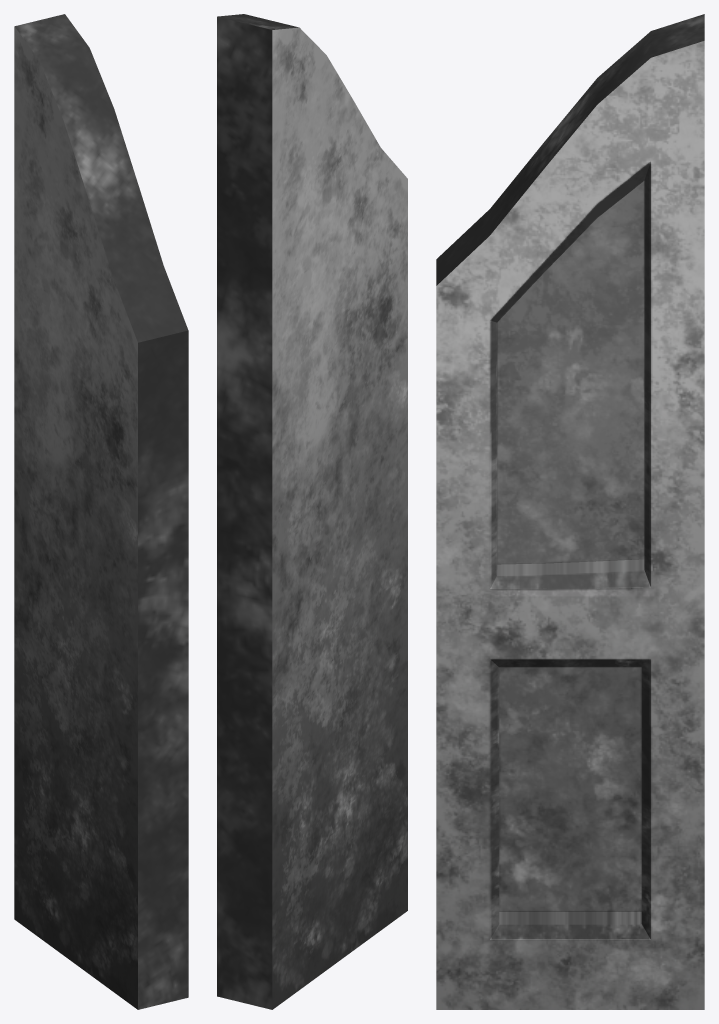
The model's file is DoorA.fbx.
The picture shows the model from 3 angles, left to right: view 1: azimuth 30°, elevation 25°; view 2: azimuth 150°, elevation 25°; view 3: azimuth 270°, elevation 25°; orthographic projection. The views are drawn at different scales.
Visible parts, largest first — view 1: pCube1; view 2: pCube1; view 3: pCube1.
Boxes of the visible parts, left/top/right/bottom form: pCube1: left=14, top=14, right=188, bottom=1009; pCube1: left=217, top=14, right=407, bottom=1009; pCube1: left=436, top=14, right=704, bottom=1009.
Bounding box in the file's own units: 8.61 × 146 × 36.49.
Materials: 1 (1 with a texture image).
